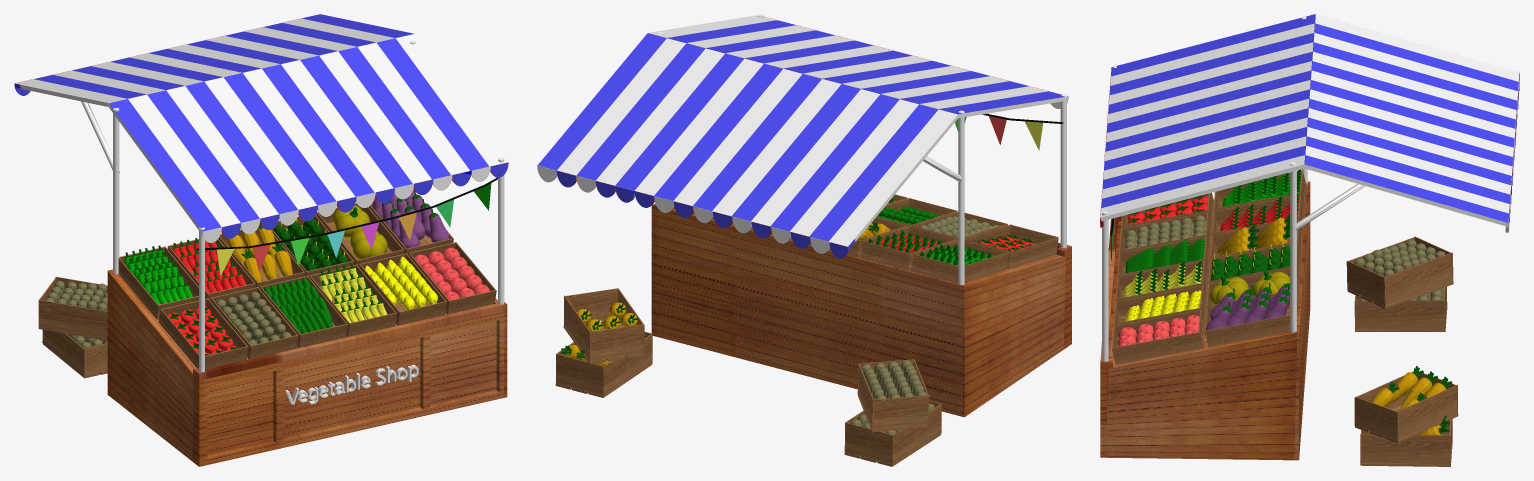
The model's file is vegetable-shop.glb.
3 renders of one model, left to right at view 1: azimuth 30°, elevation 25°; view 2: azimuth 150°, elevation 25°; view 3: azimuth 270°, elevation 25°, orthographic. The views are drawn at different scales.
Visible parts, largest first — view 1: ShopBase, Roof, BlueTent, FruitBase, BlueTentBack, Potato, Columns, Cucumber, Apple, Pear, Eggplant, YellowChilies (+11 smaller); view 2: ShopBase, Roof, BlueTentBack, FruitBase, BlueTent, Potato, Columns, GrayFlag, ChiliStem, Carrot, Cucumber; view 3: Roof, ShopBase, FruitBase, BlueTentBack, BlueTent, Potato, Columns, Carrot, Eggplant, ChiliStem, Avocado, Cucumber (+9 smaller).
Part boxes in pixels (box(x1,y1,x2,y2)): ShopBase: box(107, 222, 507, 466); Roof: box(14, 18, 508, 234); BlueTent: box(109, 38, 508, 238); FruitBase: box(38, 193, 496, 378); BlueTentBack: box(14, 14, 413, 98); Potato: box(45, 280, 291, 348); Columns: box(81, 40, 504, 372); Cucumber: box(264, 277, 333, 333); Apple: box(414, 247, 490, 300); Pear: box(364, 256, 437, 309); Eggplant: box(372, 189, 449, 248); YellowChilies: box(319, 268, 387, 322); ShopBase: box(651, 203, 1071, 417); Roof: box(557, 15, 1067, 250); BlueTentBack: box(537, 33, 938, 258); FruitBase: box(555, 194, 1058, 466); BlueTent: box(667, 20, 1067, 114); Potato: box(851, 216, 999, 434); Columns: box(657, 14, 1066, 284); GrayFlag: box(537, 19, 1068, 253); ChiliStem: box(868, 198, 992, 265); Carrot: box(565, 223, 890, 365); Cucumber: box(877, 206, 940, 224); Roof: box(1100, 14, 1519, 226); ShopBase: box(1100, 181, 1310, 460); FruitBase: box(1111, 170, 1458, 466); BlueTentBack: box(1304, 23, 1519, 222); BlueTent: box(1101, 14, 1315, 208); Potato: box(1124, 215, 1445, 300); Columns: box(1102, 16, 1377, 361); Carrot: box(1216, 217, 1446, 435); Eggplant: box(1206, 285, 1290, 333); ChiliStem: box(1135, 169, 1300, 294); Avocado: box(1211, 246, 1290, 280); Cucumber: box(1125, 238, 1204, 273).
Bounding box in the file's own units: 1.55 × 1.2 × 1.54.
Materials: 38 (2 with a texture image).
